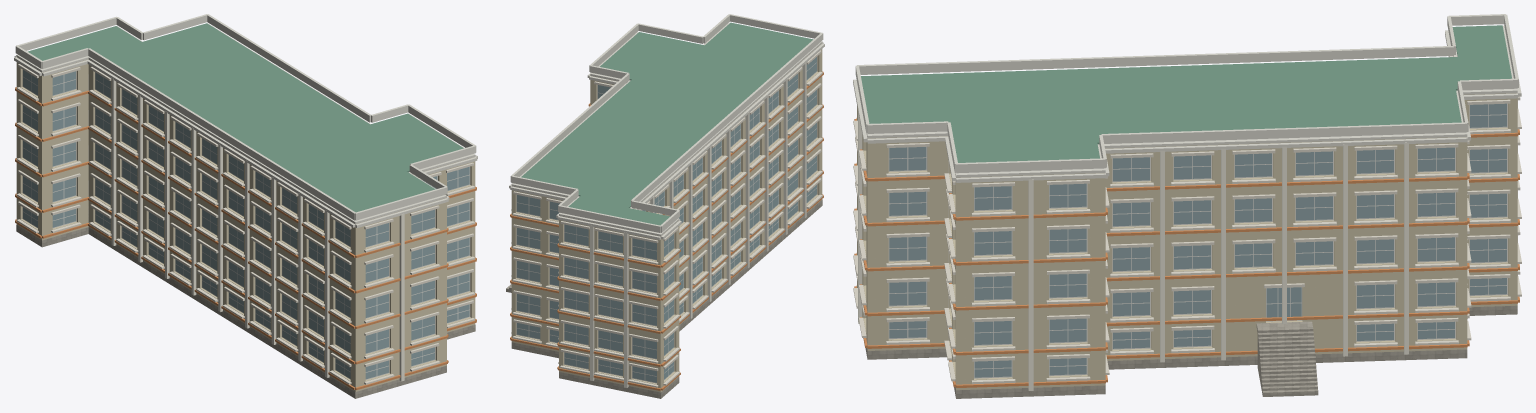
The picture shows the model from 3 angles, left to right: view 1: azimuth 30°, elevation 25°; view 2: azimuth 150°, elevation 25°; view 3: azimuth 270°, elevation 25°; orthographic projection. The views are drawn at different scales.
Parts seen in each view (by area): view 1: annex__plaster, annex__roof, annex__glass, annex__lintel, annex__cap, annex__pier, annex__orange, annex__frame, annex__stone; view 2: annex__roof, annex__plaster, annex__glass, annex__lintel, annex__cap, annex__pier, annex__orange, annex__frame, annex__stone; view 3: annex__plaster, annex__roof, annex__glass, annex__lintel, annex__cap, annex__orange, annex__frame, annex__pier, annex__stone, annex__stair-front.
Boxes of the visible parts, x1=… form: annex__plaster: x1=16, y1=57, x2=475, y2=391; annex__roof: x1=28, y1=23, x2=463, y2=212; annex__glass: x1=23, y1=70, x2=469, y2=379; annex__lintel: x1=16, y1=64, x2=474, y2=384; annex__cap: x1=14, y1=14, x2=477, y2=227; annex__pier: x1=111, y1=78, x2=404, y2=381; annex__orange: x1=15, y1=87, x2=476, y2=390; annex__frame: x1=22, y1=70, x2=470, y2=379; annex__stone: x1=16, y1=206, x2=475, y2=398; annex__roof: x1=521, y1=22, x2=813, y2=225; annex__plaster: x1=511, y1=44, x2=822, y2=392; annex__glass: x1=517, y1=57, x2=816, y2=382; annex__lintel: x1=511, y1=50, x2=822, y2=387; annex__cap: x1=509, y1=14, x2=824, y2=240; annex__pier: x1=590, y1=62, x2=806, y2=387; annex__orange: x1=510, y1=71, x2=823, y2=390; annex__frame: x1=516, y1=57, x2=817, y2=383; annex__stone: x1=511, y1=199, x2=822, y2=398; annex__plaster: x1=857, y1=56, x2=1517, y2=390; annex__roof: x1=861, y1=25, x2=1511, y2=162; annex__glass: x1=889, y1=103, x2=1506, y2=377; annex__lintel: x1=853, y1=96, x2=1521, y2=384; annex__cap: x1=853, y1=14, x2=1521, y2=182; annex__orange: x1=854, y1=118, x2=1519, y2=387; annex__frame: x1=888, y1=103, x2=1507, y2=378; annex__pier: x1=858, y1=100, x2=1517, y2=390; annex__stone: x1=865, y1=305, x2=1517, y2=398; annex__stair-front: x1=1257, y1=327, x2=1318, y2=396.
Bounding box in the file's own units: 24.06 × 17.26 × 44.52.
10 materials, 2 textured.
